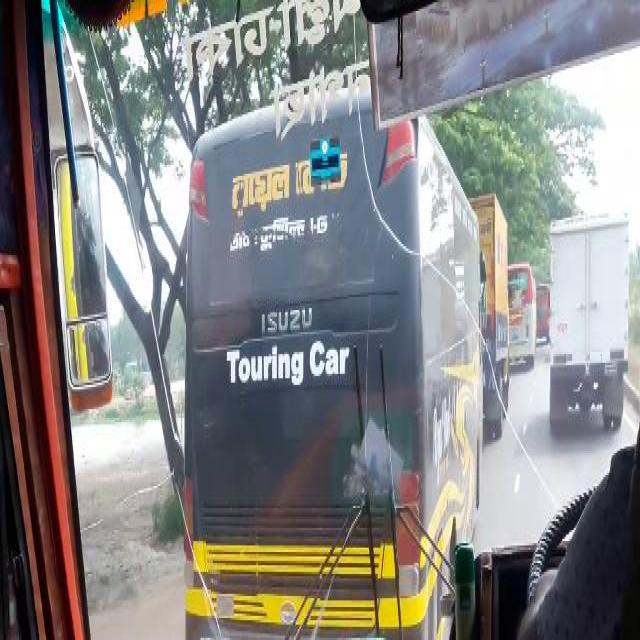bus: (180, 130, 478, 636), (508, 265, 534, 366), (535, 279, 549, 339)
truck: (547, 205, 627, 426), (477, 198, 511, 433)
